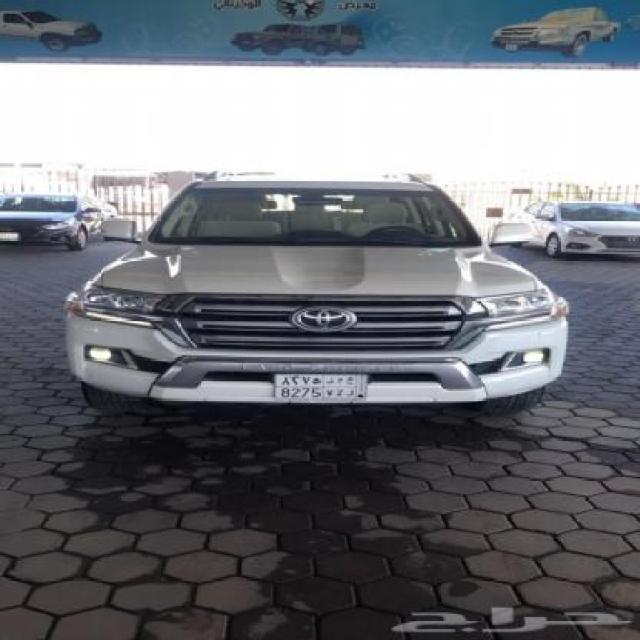license_plate: (273, 372, 369, 400)
